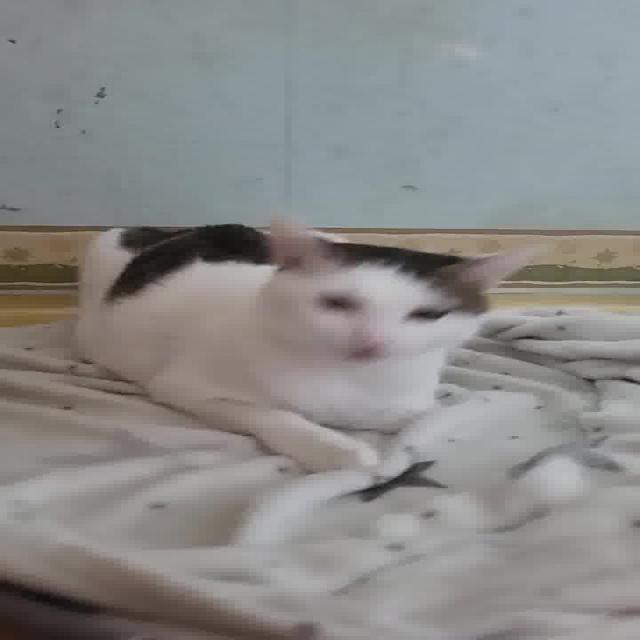cat: (68, 211, 555, 477)
